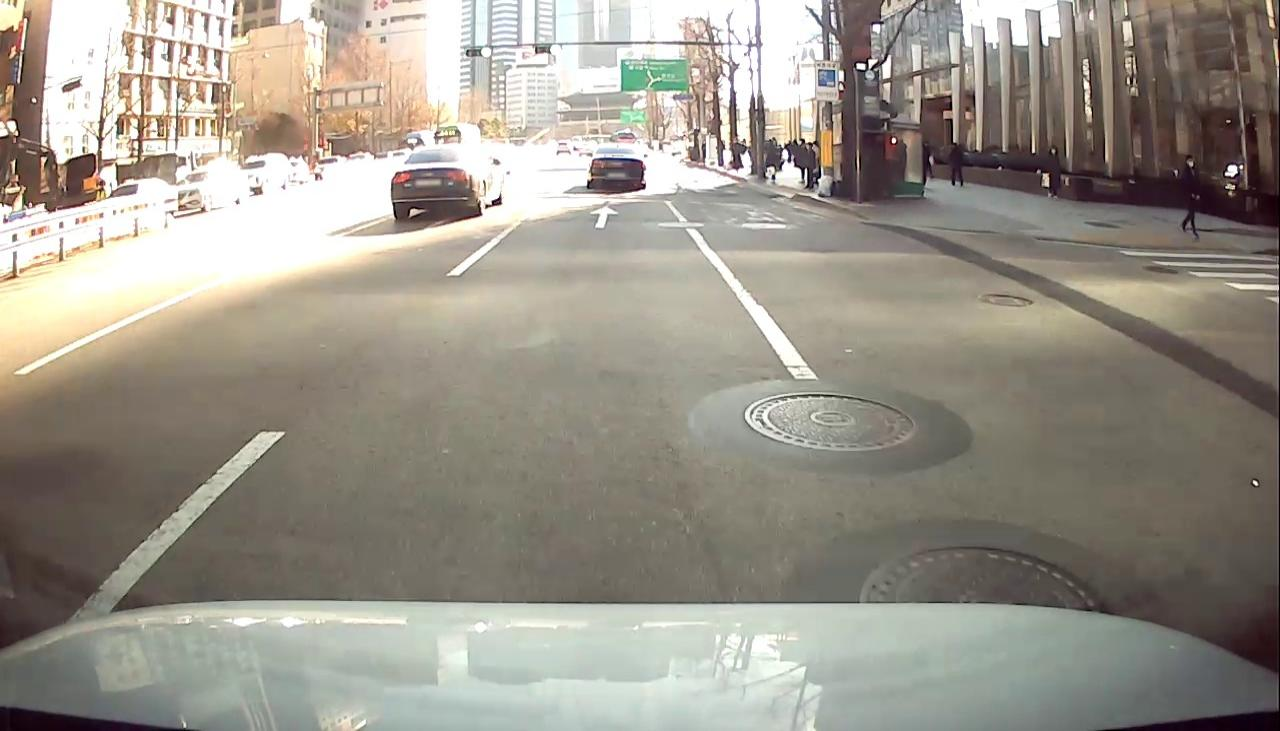Green Light: (550, 43, 562, 55), (480, 46, 492, 56)
